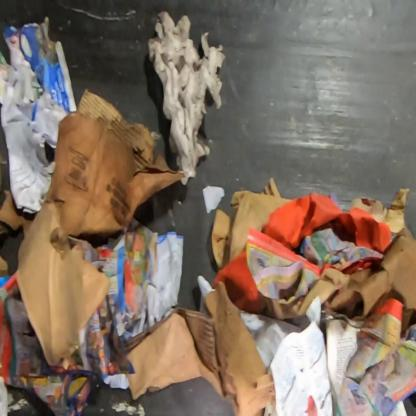cardboard: (110, 280, 276, 416), (42, 87, 185, 239), (15, 200, 110, 371), (147, 9, 226, 186), (210, 177, 292, 268), (351, 186, 411, 239), (0, 188, 33, 237), (0, 254, 9, 278)
